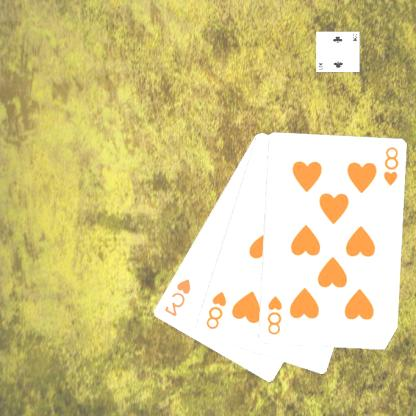3H: (163, 276, 194, 318)
8H: (204, 289, 230, 331), (265, 292, 285, 336), (382, 145, 401, 187)
